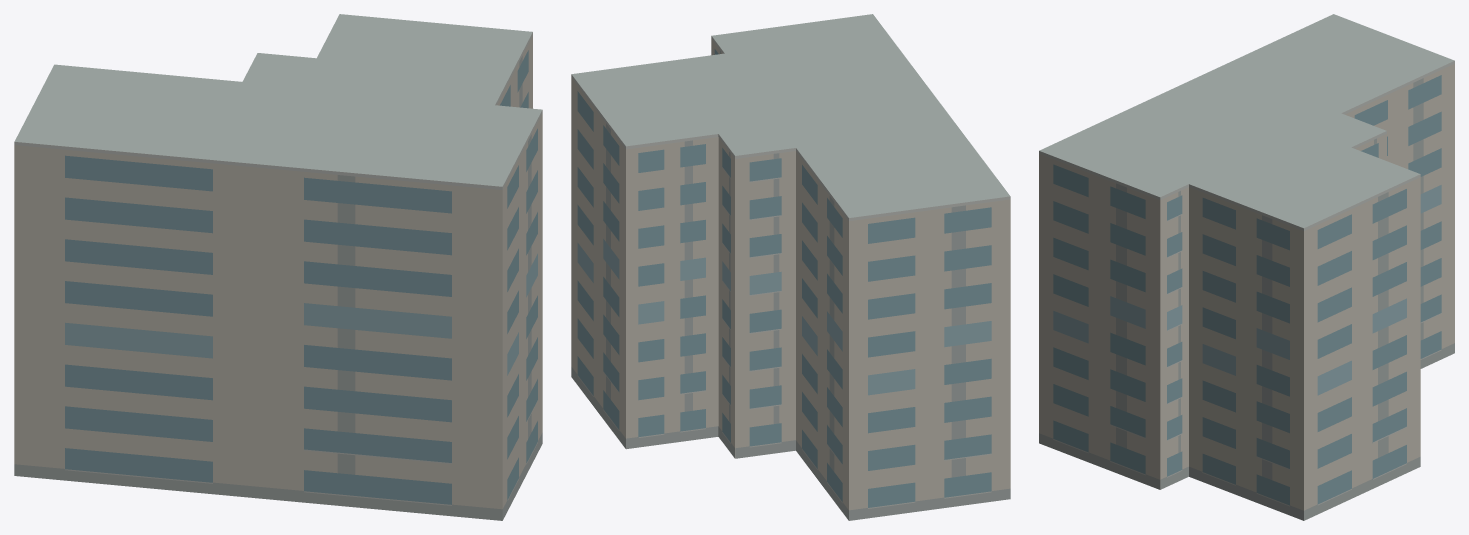
File: residential-fe60dd60-ca83-426d-95d2-d106e71aeaf9.glb
3 views of the same model, side by side, from view 1: azimuth 30°, elevation 25°; view 2: azimuth 150°, elevation 25°; view 3: azimuth 270°, elevation 25° (orthographic). The views are drawn at different scales.
Visible parts, largest first — view 1: residential-fe60dd60-ca83-426d-95d2-d106e71aeaf9.tmp; view 2: residential-fe60dd60-ca83-426d-95d2-d106e71aeaf9.tmp; view 3: residential-fe60dd60-ca83-426d-95d2-d106e71aeaf9.tmp.
Part boxes in pixels (x1,y1,x2,y2): residential-fe60dd60-ca83-426d-95d2-d106e71aeaf9.tmp: [14, 14, 542, 520]; residential-fe60dd60-ca83-426d-95d2-d106e71aeaf9.tmp: [571, 14, 1010, 520]; residential-fe60dd60-ca83-426d-95d2-d106e71aeaf9.tmp: [1039, 14, 1454, 520].
Bounding box in the file's own units: 38.34 × 24.4 × 31.43.
